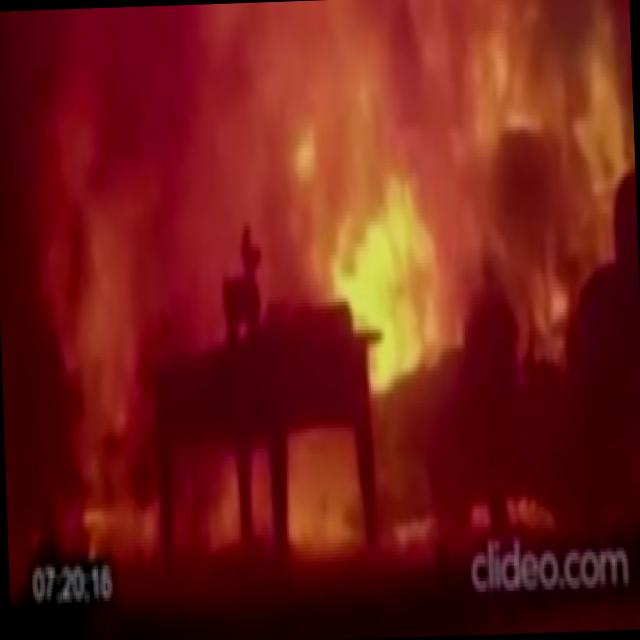fire: (8, 0, 640, 556)
